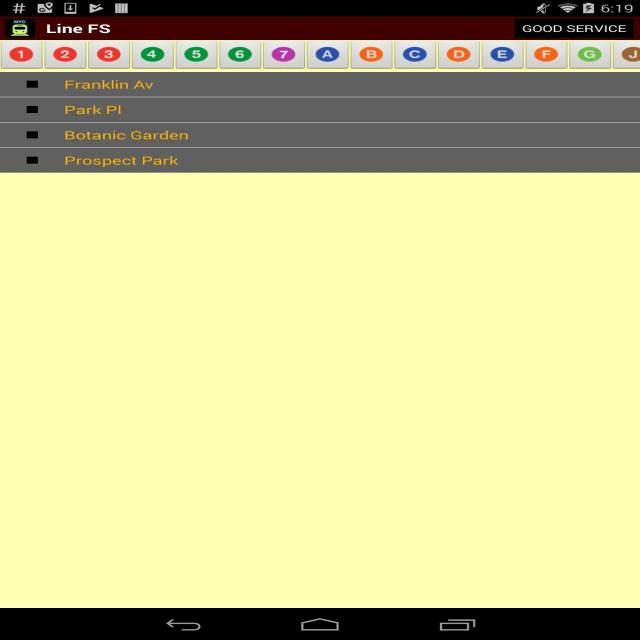heading: (44, 21, 120, 36)
image: (5, 17, 37, 38)
text: (59, 128, 193, 144), (517, 22, 630, 38), (59, 156, 194, 168), (59, 78, 158, 91), (60, 103, 130, 118), (264, 43, 300, 64), (527, 46, 568, 64), (356, 44, 391, 64), (442, 45, 476, 65), (217, 46, 255, 63), (311, 46, 346, 63), (398, 45, 431, 63), (137, 47, 169, 63), (7, 46, 38, 62), (51, 46, 81, 62), (90, 48, 124, 62), (574, 46, 600, 64), (180, 46, 209, 62), (486, 48, 514, 63), (618, 45, 640, 62)
